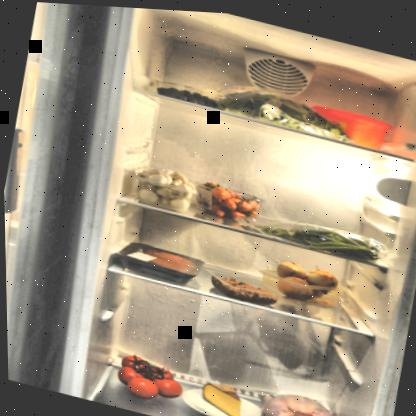beef: (126, 241, 189, 276)
blueberries: (152, 74, 219, 109)
butter: (314, 101, 396, 148)
cheese: (195, 373, 248, 415)
chicken: (249, 379, 347, 415)
green_beans: (252, 204, 392, 263)
mushrooms: (123, 160, 204, 213)
onion: (269, 252, 339, 303)
shrimp: (204, 266, 282, 307)
spinach: (219, 78, 359, 139)
strawberries: (189, 174, 264, 225)
tomato: (111, 349, 186, 408)
